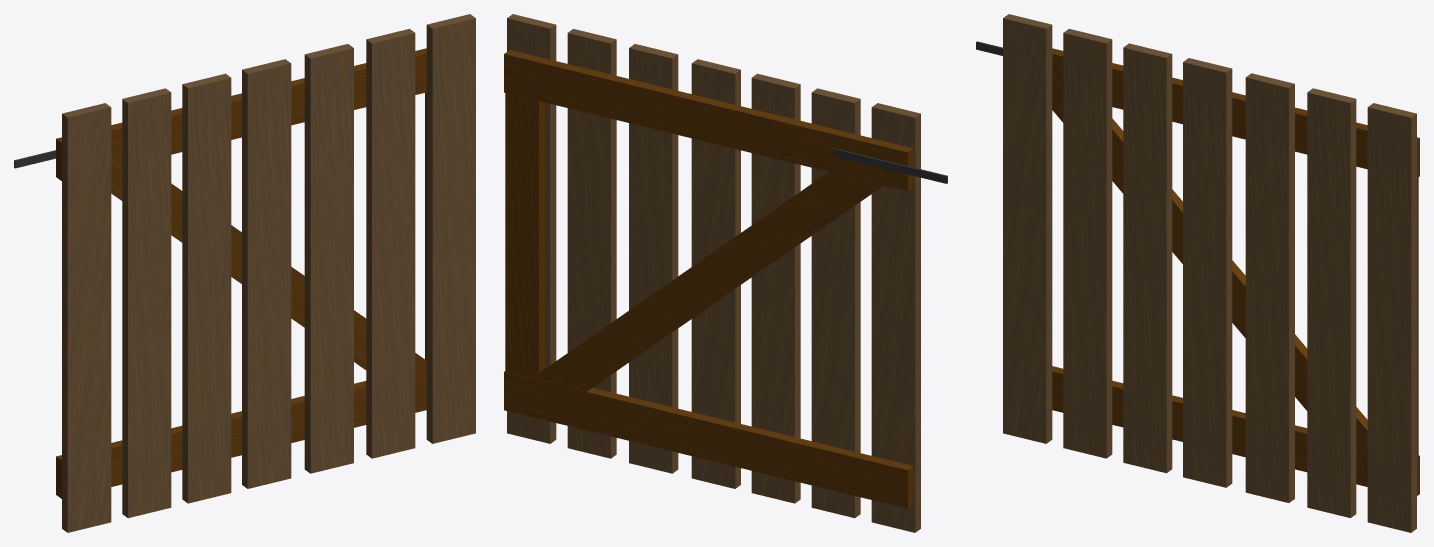
File: Gate.fbx
The picture shows the model from 3 angles, left to right: view 1: azimuth 30°, elevation 25°; view 2: azimuth 150°, elevation 25°; view 3: azimuth 330°, elevation 25°; orthographic projection.
Parts seen in each view (by area): view 1: Portti; view 2: Portti; view 3: Portti.
Part boxes in pixels (x1,y1,x2,y2): Portti: [14, 14, 475, 532]; Portti: [504, 14, 947, 532]; Portti: [976, 14, 1419, 532].
Bounding box in the file's own units: 381 × 338 × 20.67.
Materials: 3 (3 with a texture image).
